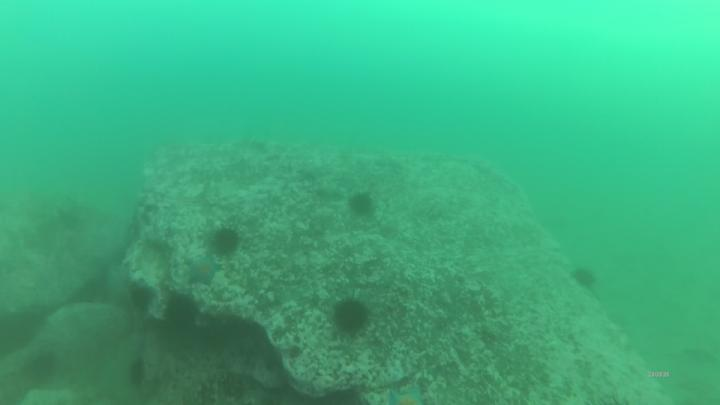echinus: (334, 300, 370, 332), (163, 297, 194, 327), (212, 229, 238, 255), (350, 194, 374, 212), (574, 268, 591, 287)
starfish: (184, 258, 219, 287), (389, 387, 423, 405)
